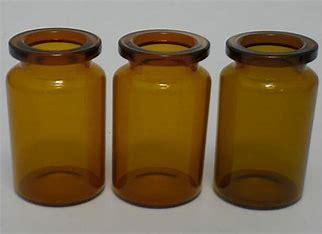Syringe: (3, 25, 108, 211), (213, 27, 321, 206), (110, 23, 211, 206)
